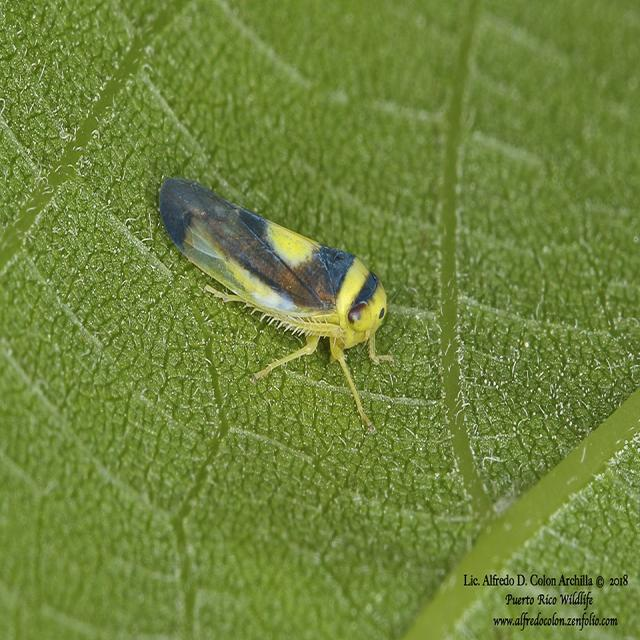Yechan: (134, 154, 416, 396)
